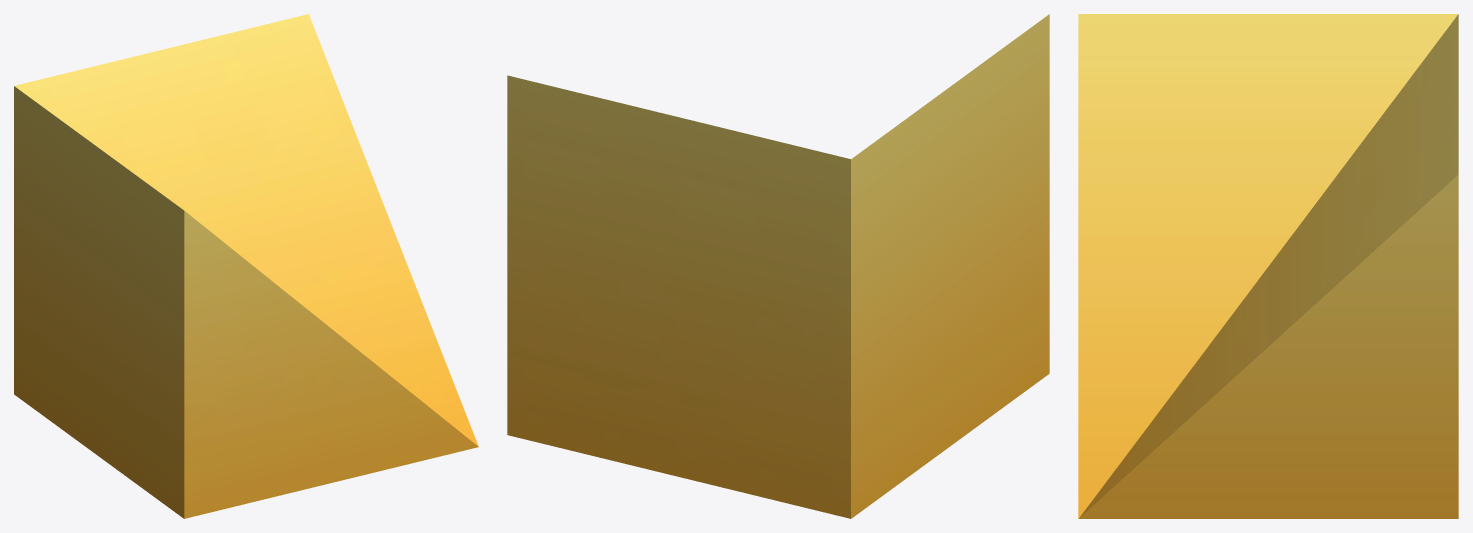
File: kaykit-prototype-bits-primitive-slope-inner-corner.glb
3 views of the same model, side by side, from view 1: azimuth 30°, elevation 25°; view 2: azimuth 150°, elevation 25°; view 3: azimuth 270°, elevation 25° (orthographic). The views are drawn at different scales.
Parts seen in each view (by area): view 1: Primitive_Slope_InnerCorner; view 2: Primitive_Slope_InnerCorner; view 3: Primitive_Slope_InnerCorner.
Part boxes in pixels (<box>): Primitive_Slope_InnerCorner: <box>14,14,478,518</box>; Primitive_Slope_InnerCorner: <box>507,14,1049,518</box>; Primitive_Slope_InnerCorner: <box>1078,14,1458,518</box>.
Size of the model in its own units: 4 by 4 by 4.
1 material, 1 textured.
